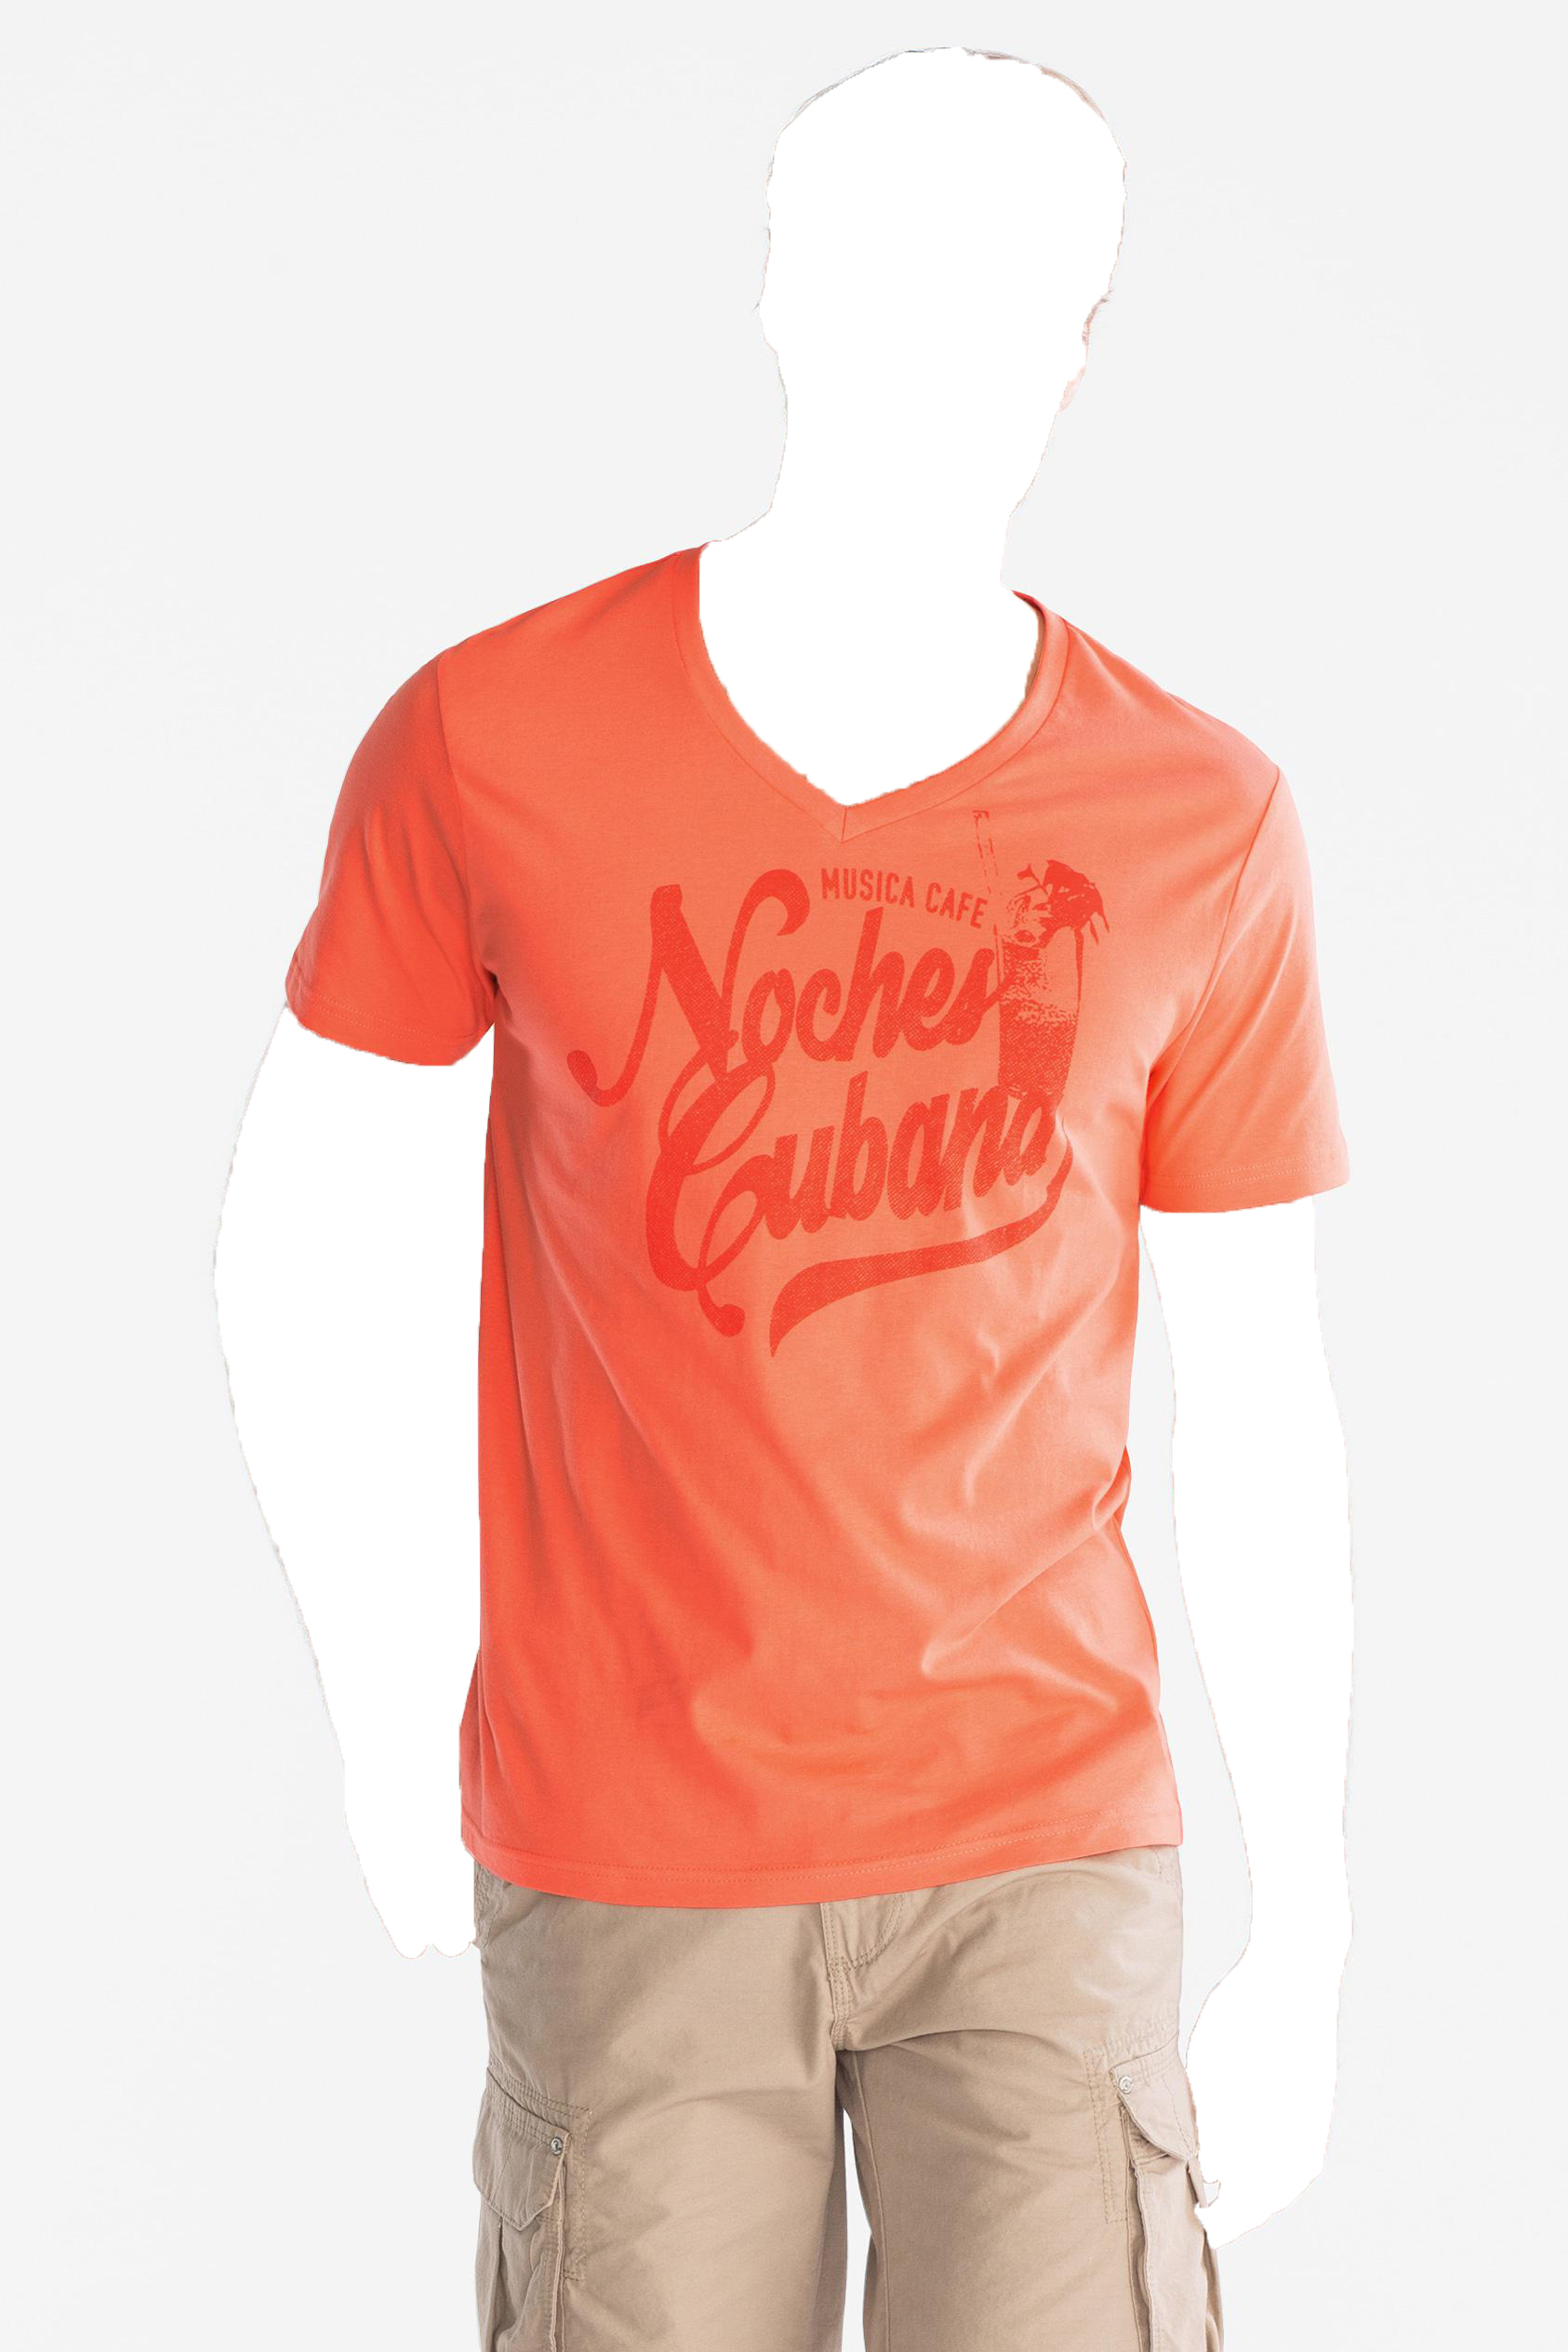teeshirt: (271, 542, 1414, 1890)
